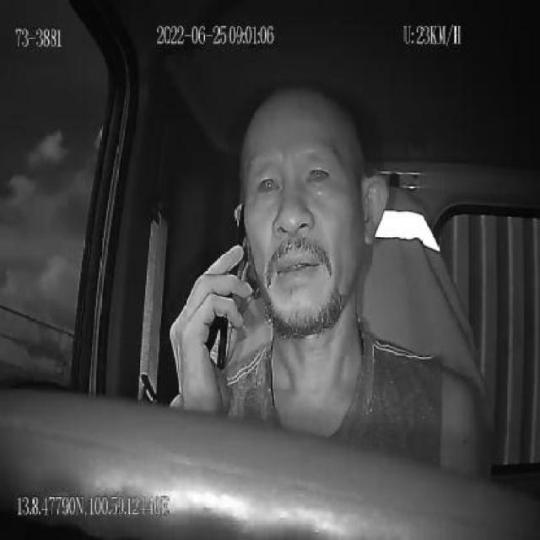phone: (214, 200, 249, 370)
